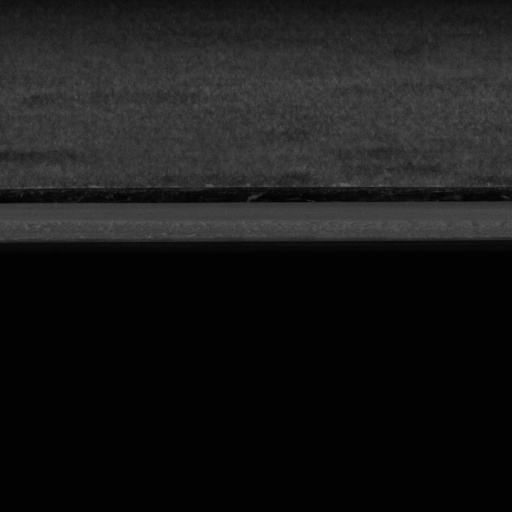kaijiao: (0, 179, 511, 244)
